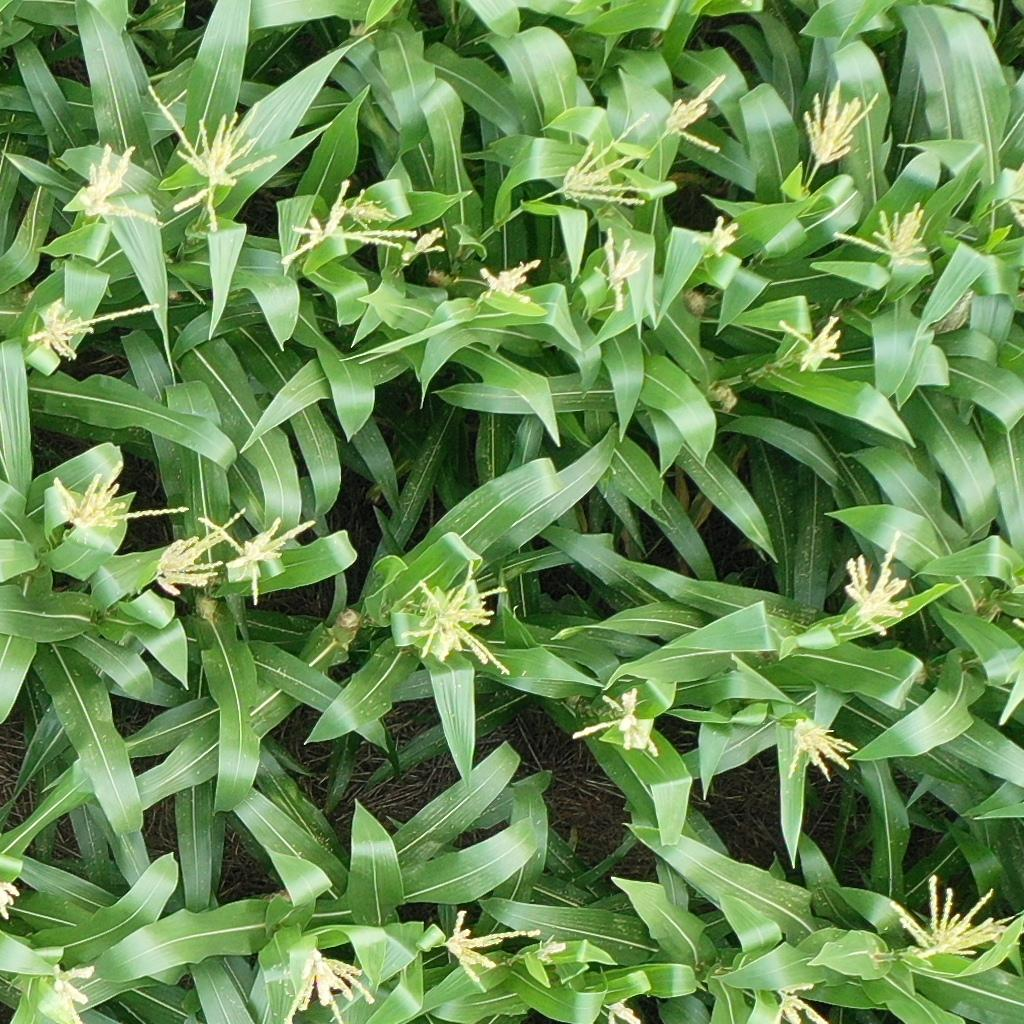Tassel: (147, 85, 278, 232), (277, 179, 420, 268), (405, 561, 511, 676), (196, 509, 315, 608), (887, 872, 1013, 963), (47, 460, 191, 535), (563, 111, 653, 210), (156, 505, 247, 601), (28, 297, 163, 359), (442, 911, 542, 994), (837, 529, 909, 638), (76, 145, 164, 229), (283, 950, 376, 1024), (830, 202, 931, 269), (802, 81, 880, 167), (572, 685, 661, 759), (663, 72, 730, 153), (593, 226, 649, 315), (785, 718, 861, 783), (778, 310, 843, 373), (479, 258, 546, 306), (45, 961, 96, 1024), (770, 974, 827, 1024), (346, 187, 396, 232), (690, 215, 739, 259), (400, 227, 448, 260), (597, 994, 642, 1024), (1003, 160, 1024, 224), (535, 934, 568, 966), (1, 880, 23, 919)
